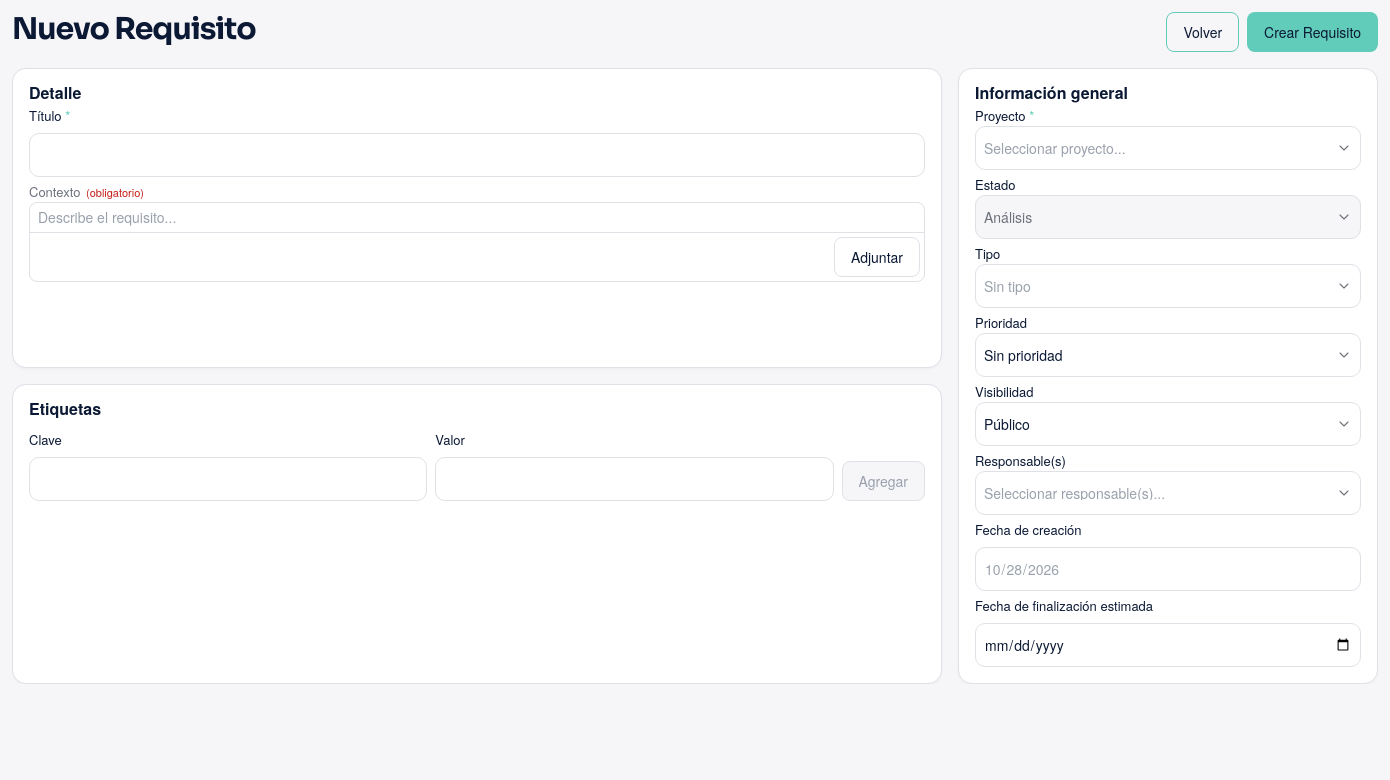
Test: CreateRequirementForm › TS-8 (ajustado S-057): el Select de Proyecto lista todas las opciones, sin búsqueda por texto
The width and height of the screenshot is (1390, 780).
Check: the button "Crear Requisito" is shown, box [1247, 12, 1378, 52]
Click the dropdown labelled "Seleccionar proyecto...".
click(1055, 148)  # box [975, 126, 1361, 170]
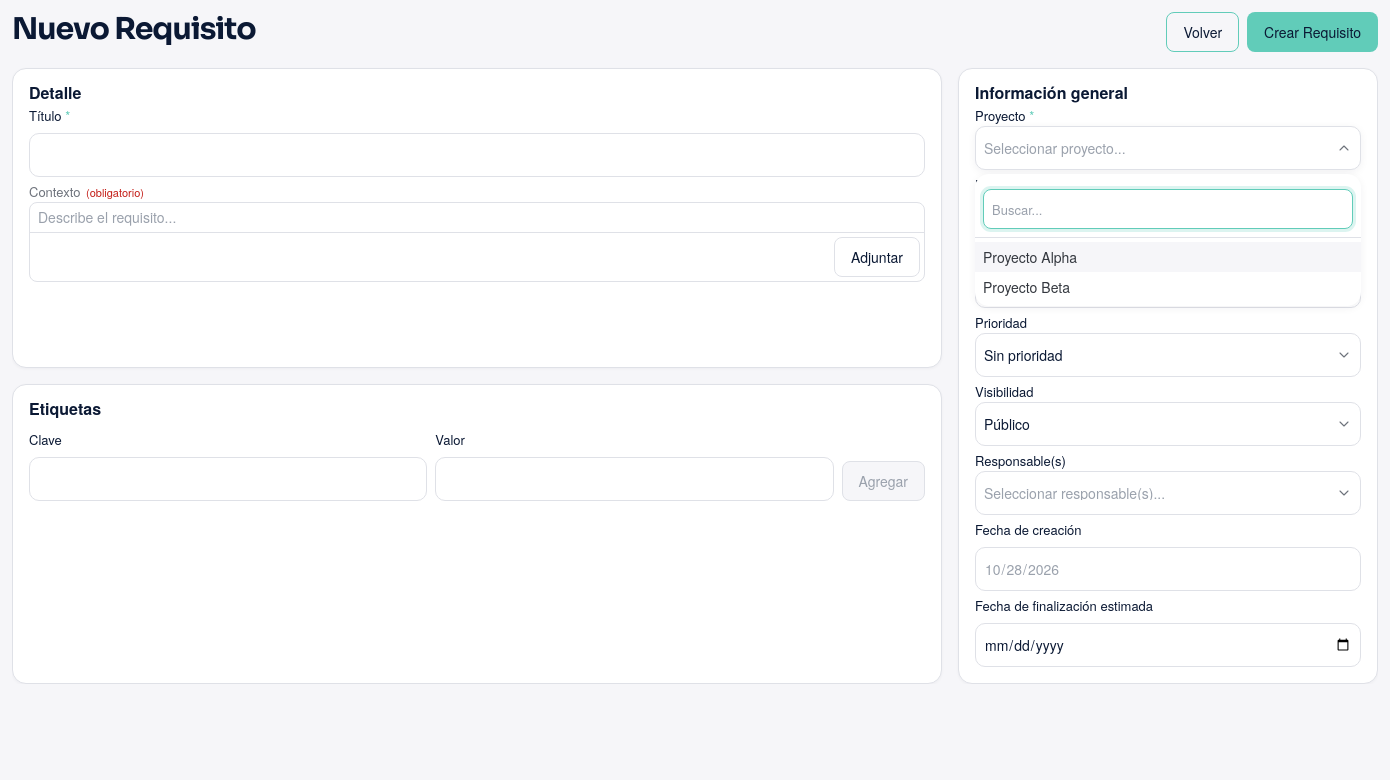
Check: the option "Proyecto Alpha" is shown, box [975, 242, 1361, 272]
Check: the option "Proyecto Beta" is shown, box [983, 277, 1070, 297]
